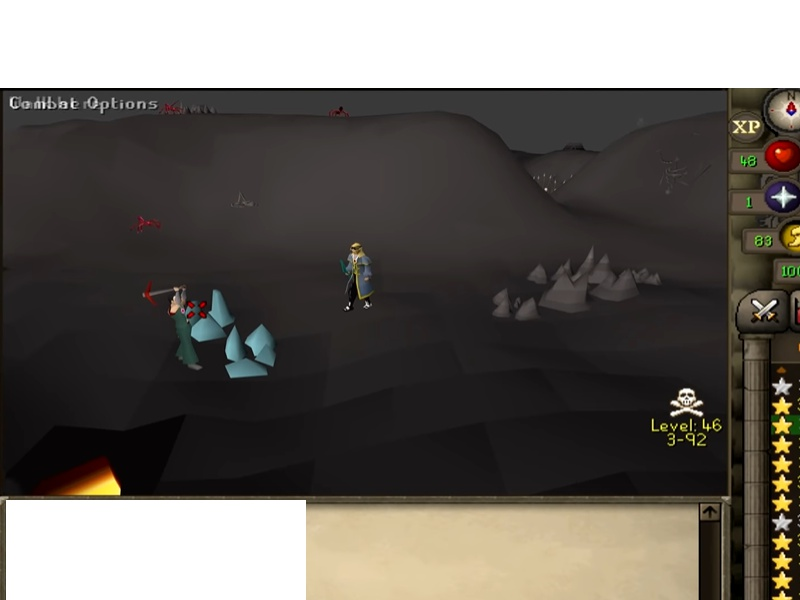rune: (224, 322, 282, 380), (188, 284, 240, 345)
